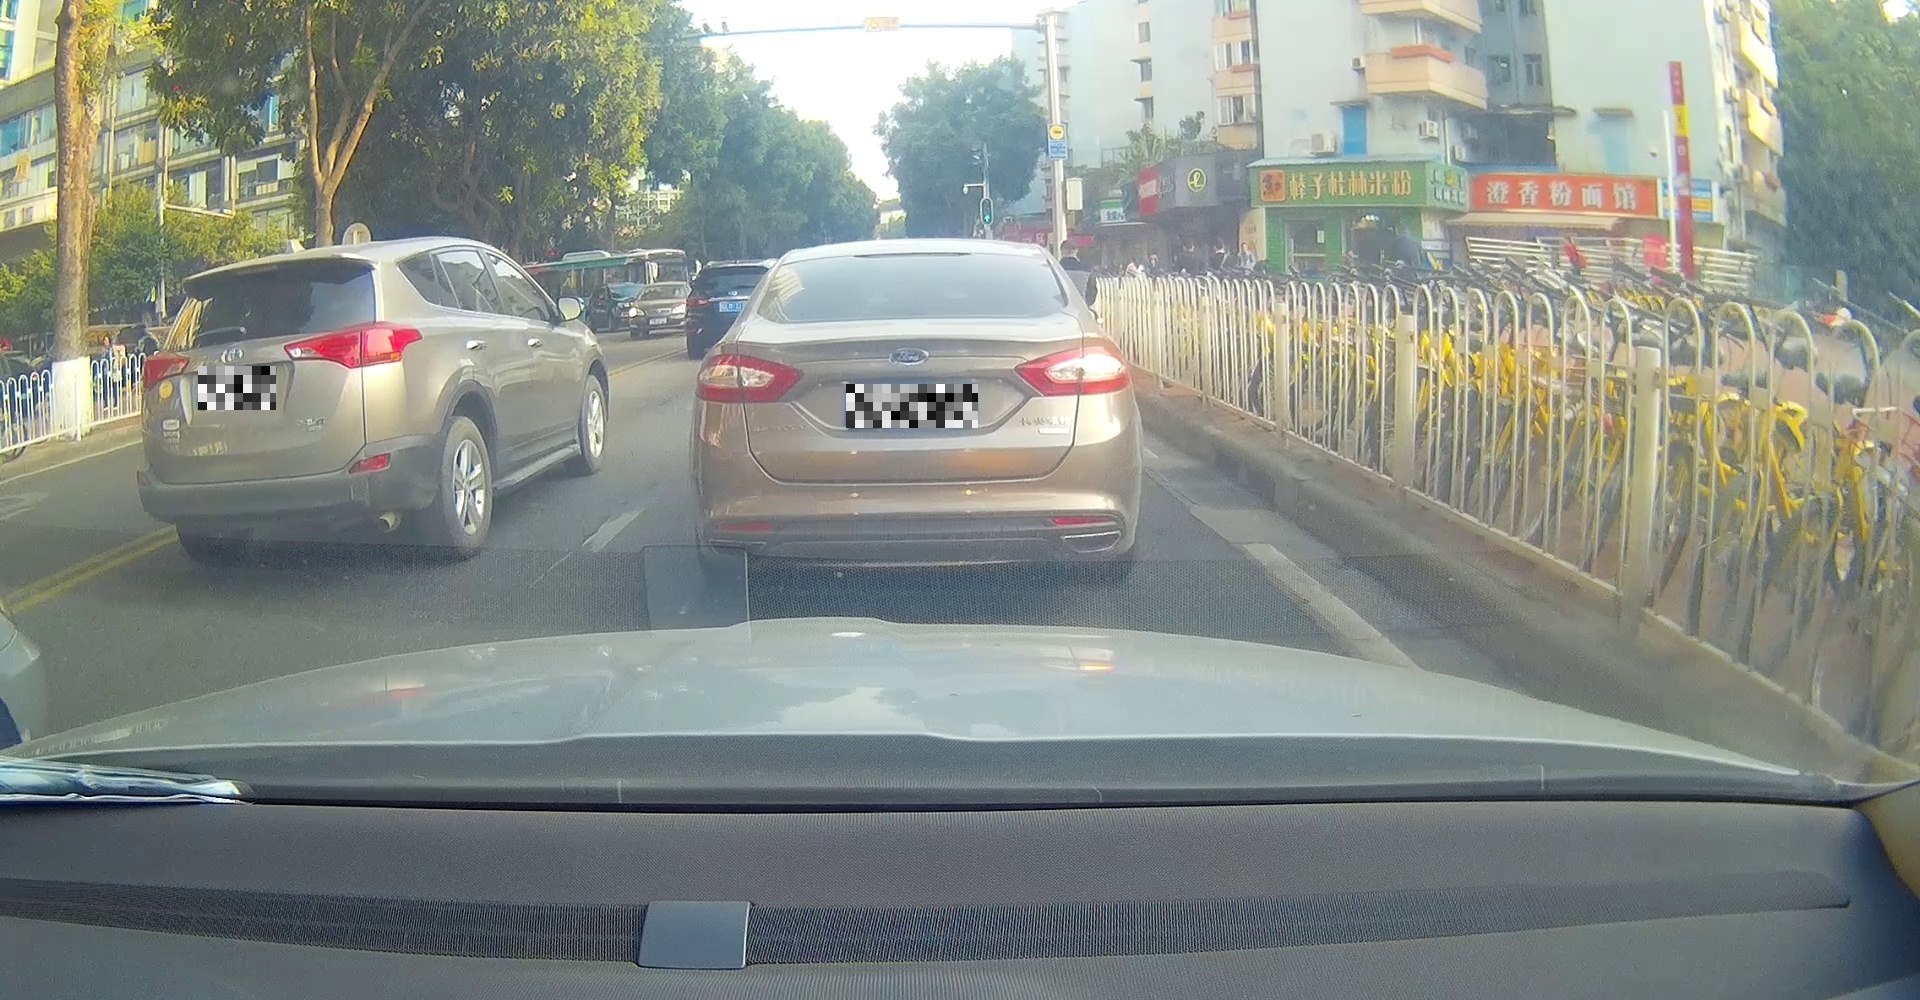L_light: (693, 352, 805, 404), (142, 348, 190, 390)
R_light: (283, 321, 424, 369), (1013, 341, 1130, 397)
T_light: (851, 247, 975, 263), (229, 258, 279, 277)
day-no: (691, 239, 1131, 589), (136, 247, 427, 565)
plate_1: (198, 365, 276, 410)
plate_2: (846, 385, 978, 428)
